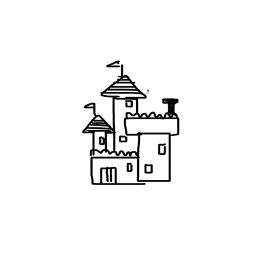bottom_placed_house: (1, 2, 260, 260)
chimney: (156, 88, 182, 118)
door: (98, 164, 120, 188)
open_window: (156, 141, 168, 159), (143, 162, 156, 176), (123, 161, 135, 174)
roof: (120, 112, 185, 139), (99, 73, 150, 103), (81, 112, 115, 137)
small_house: (11, 10, 260, 260)
wall: (135, 130, 175, 183), (87, 155, 143, 189)
